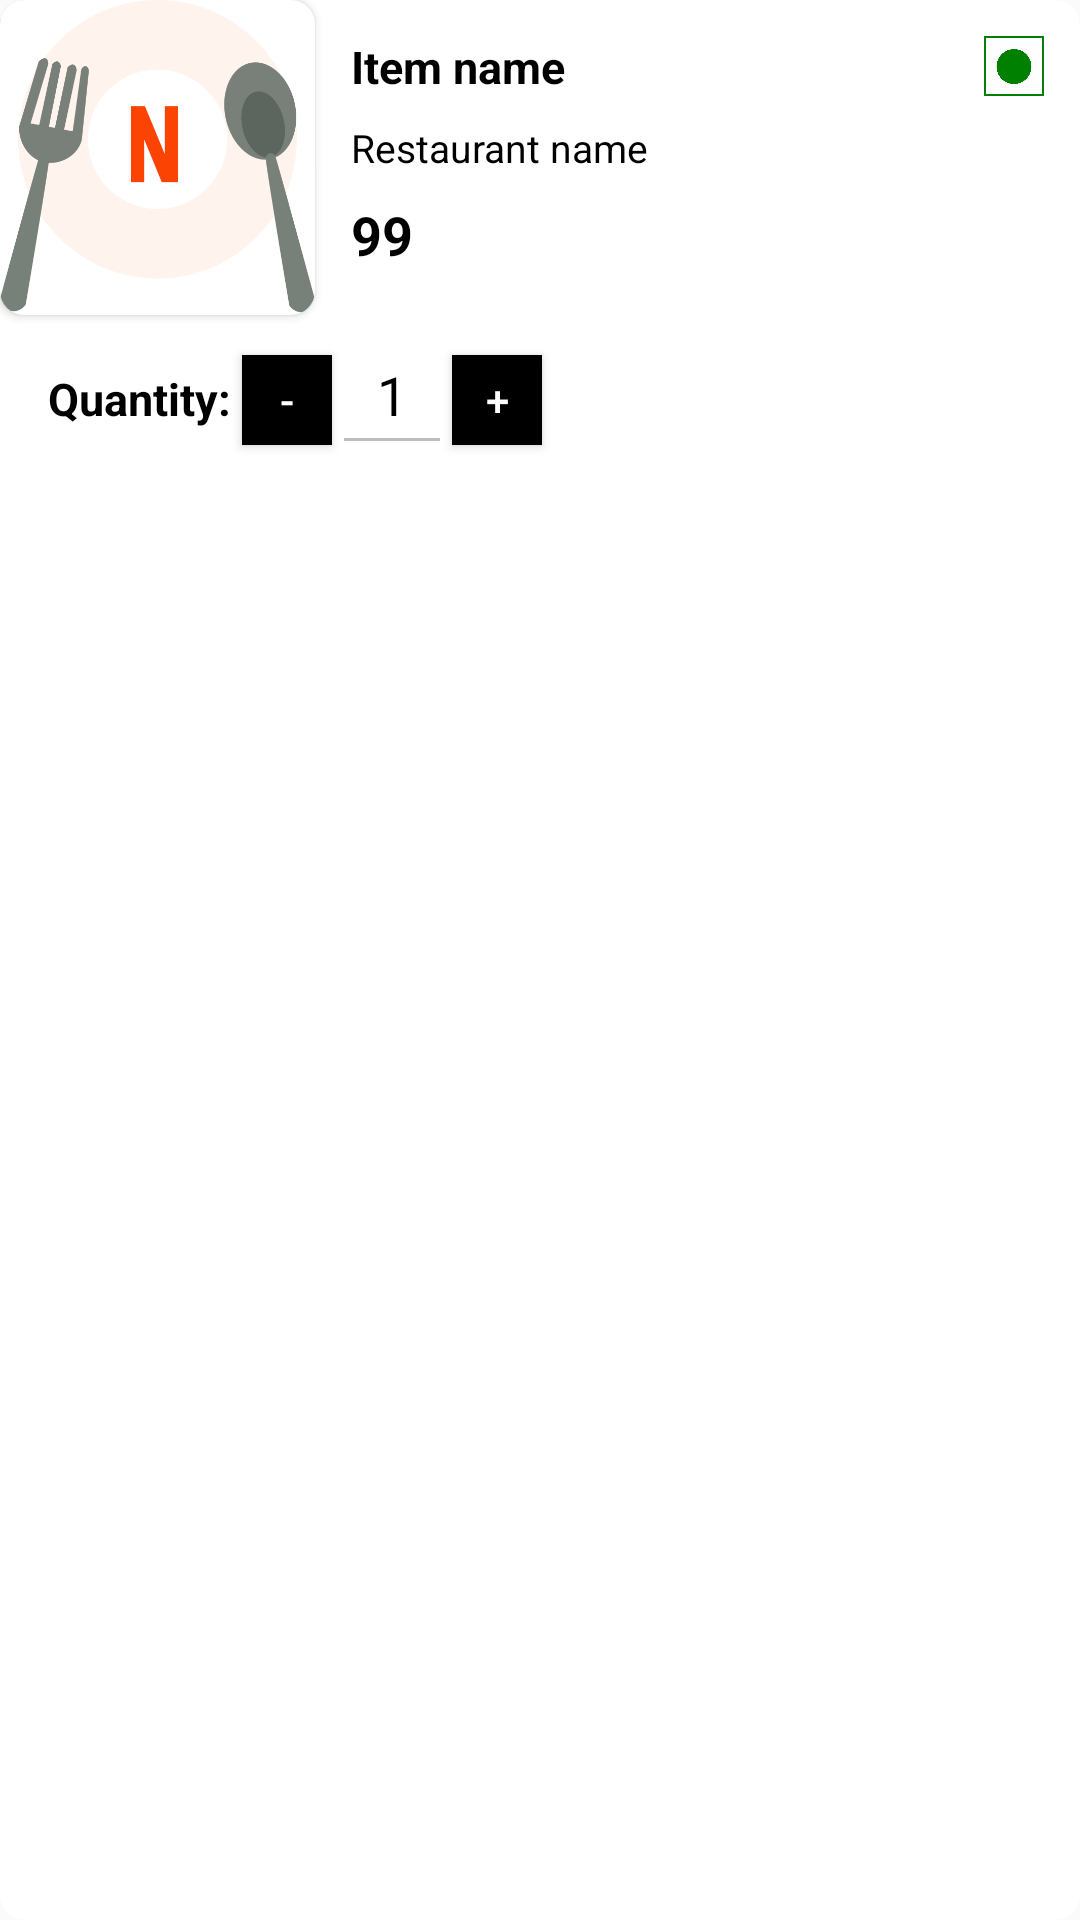

Icons on this 1080px×1920px Android screen, each with its box as (x1,y1,x2,y2):
nearesto: (0,58,314,315)
veg: (984,36,1044,96)
